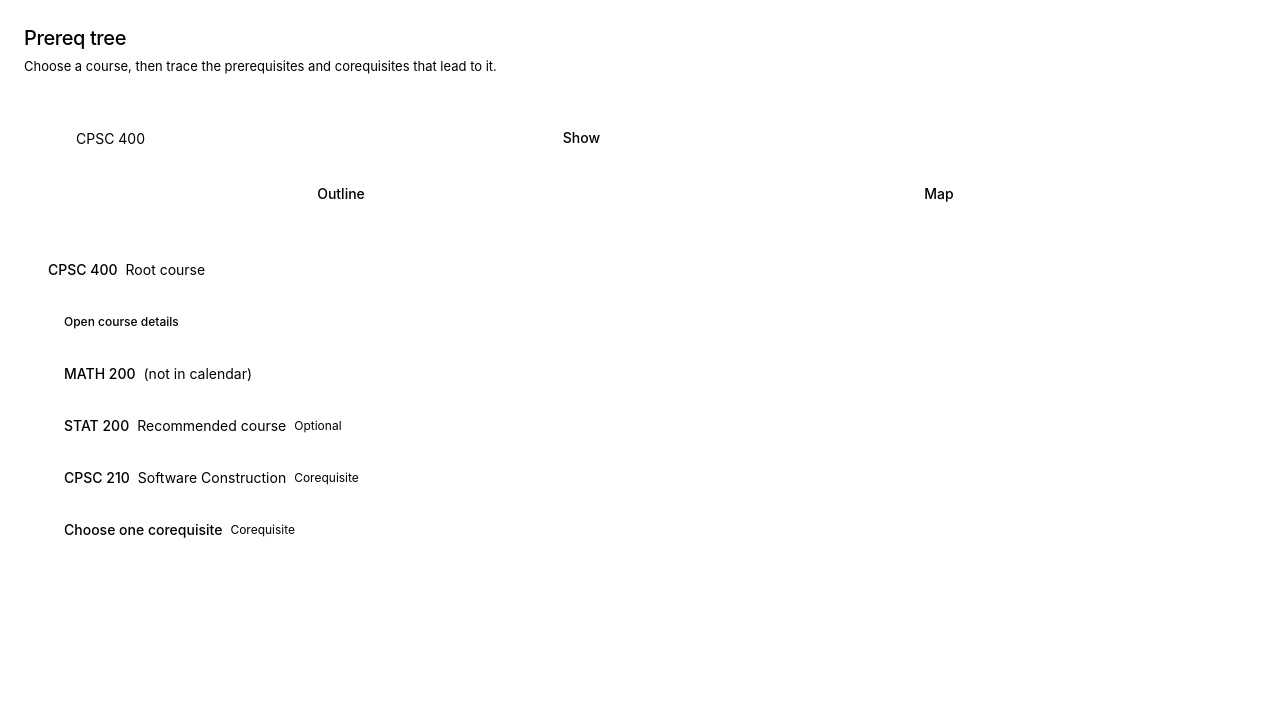
PrereqTreePane › preserves corequisite siblings, their prerequisites, and optional state (false)
expect the text "Corequisite" next to "Software Construction" is shown: met, box [294,470,359,485]
expect the text "Corequisite" next to "Choose one corequisite" is shown: met, box [230,522,295,537]
Click the heading "Choose one corequisite Corequisite" at (180, 530), box [64,521,295,538]
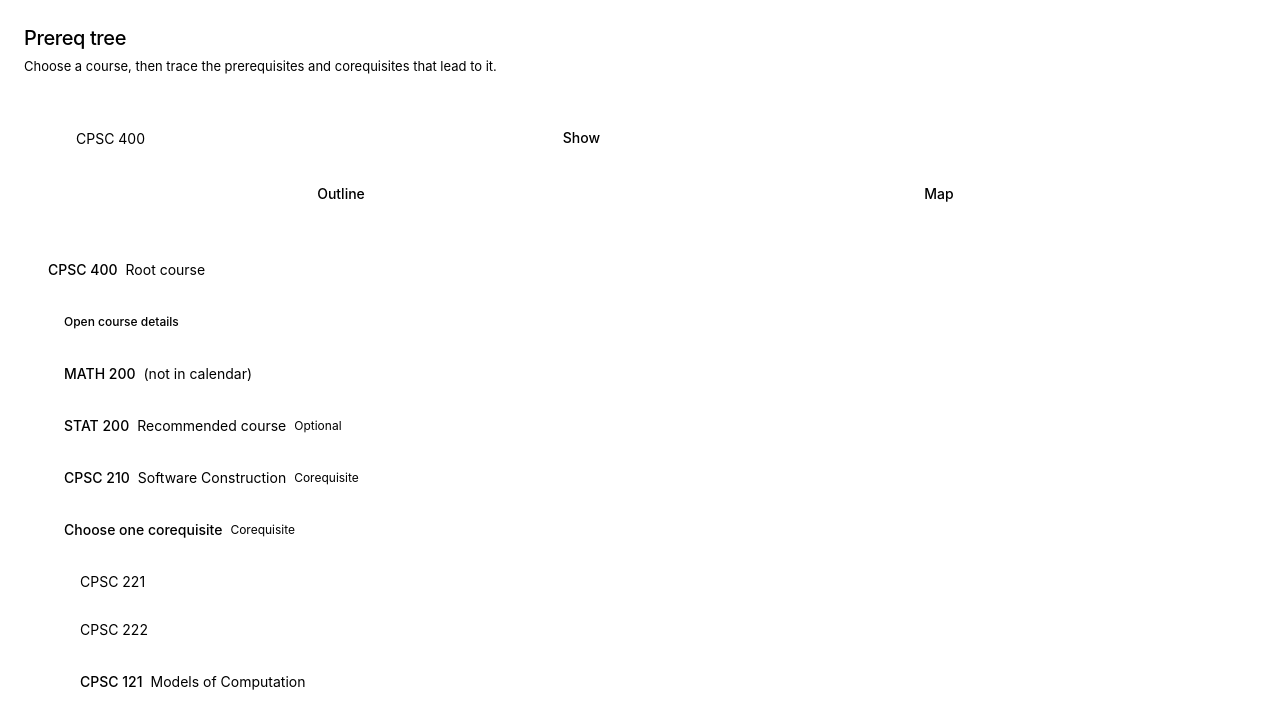
Click the button "CPSC 222" at (114, 630), box [68,608,1228,652]
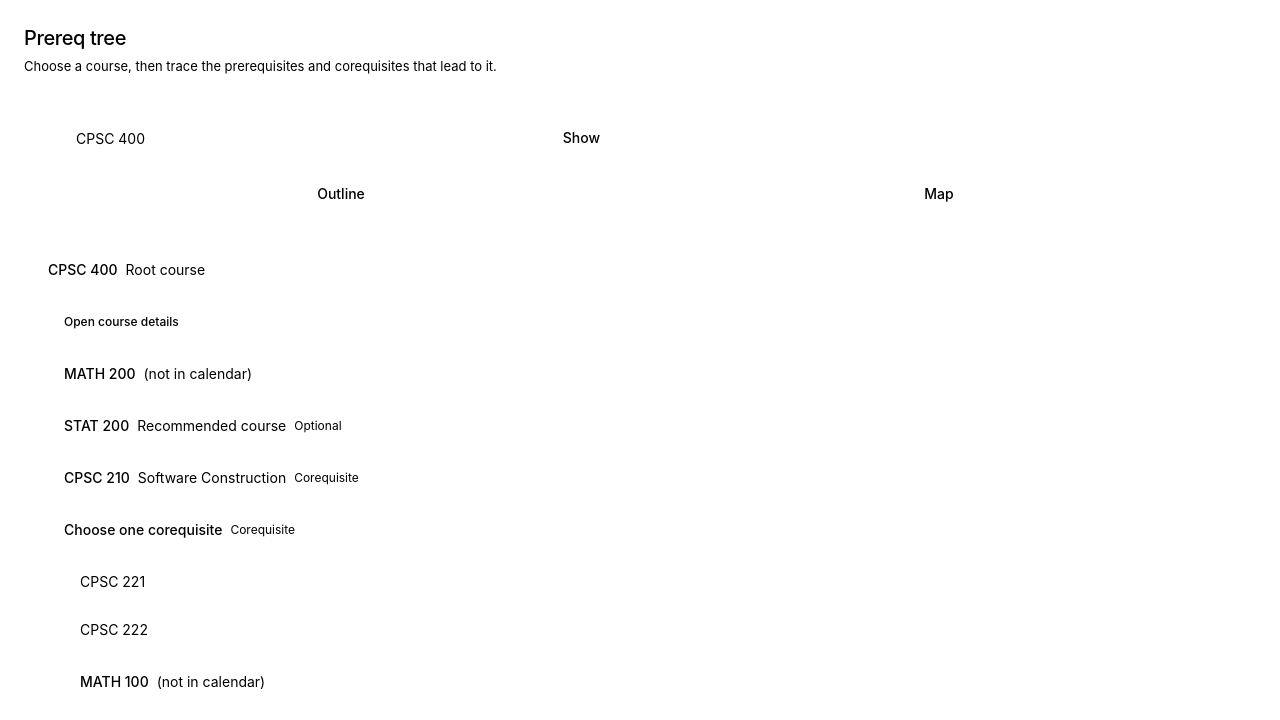
expect the text "Optional" is shown: met, box [294,418,342,434]
expect the heading "CPSC 121" is gone: met
Click the heading "STAT 200 Recommended course Optional" at (203, 426), box [64,417,342,434]
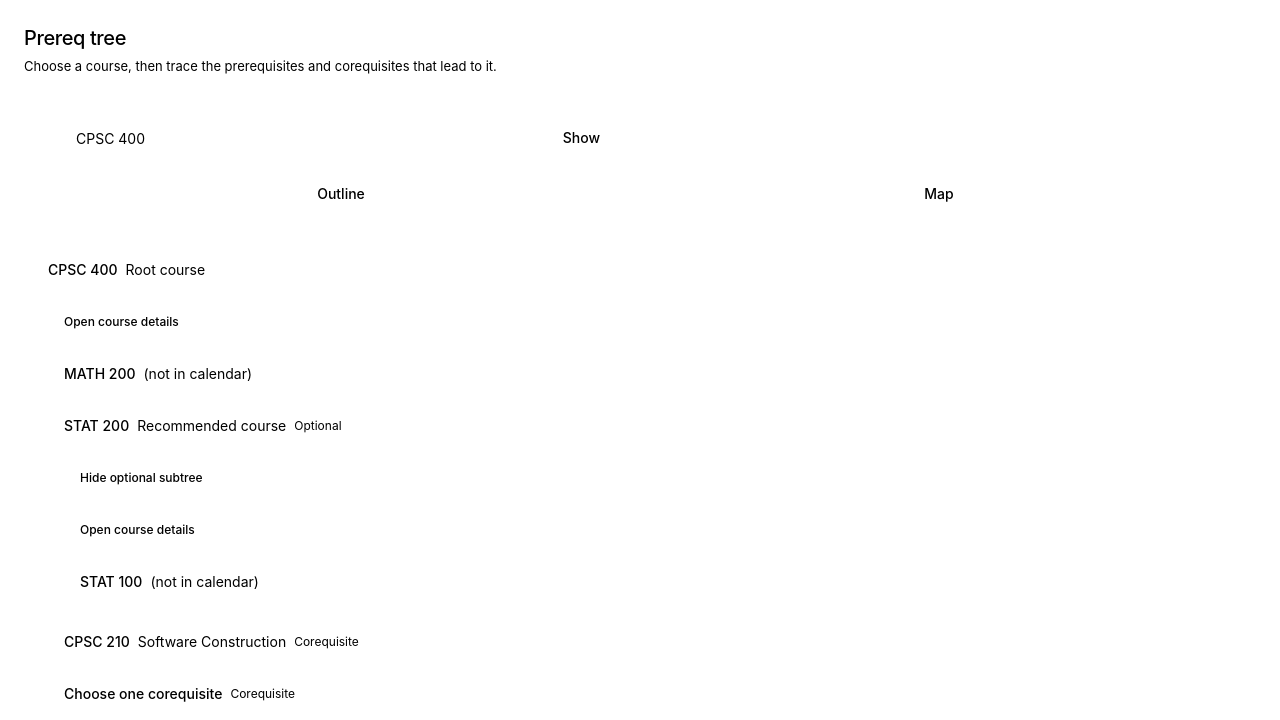
Click the button "Hide optional subtree" at (141, 478), box [68,456,215,500]
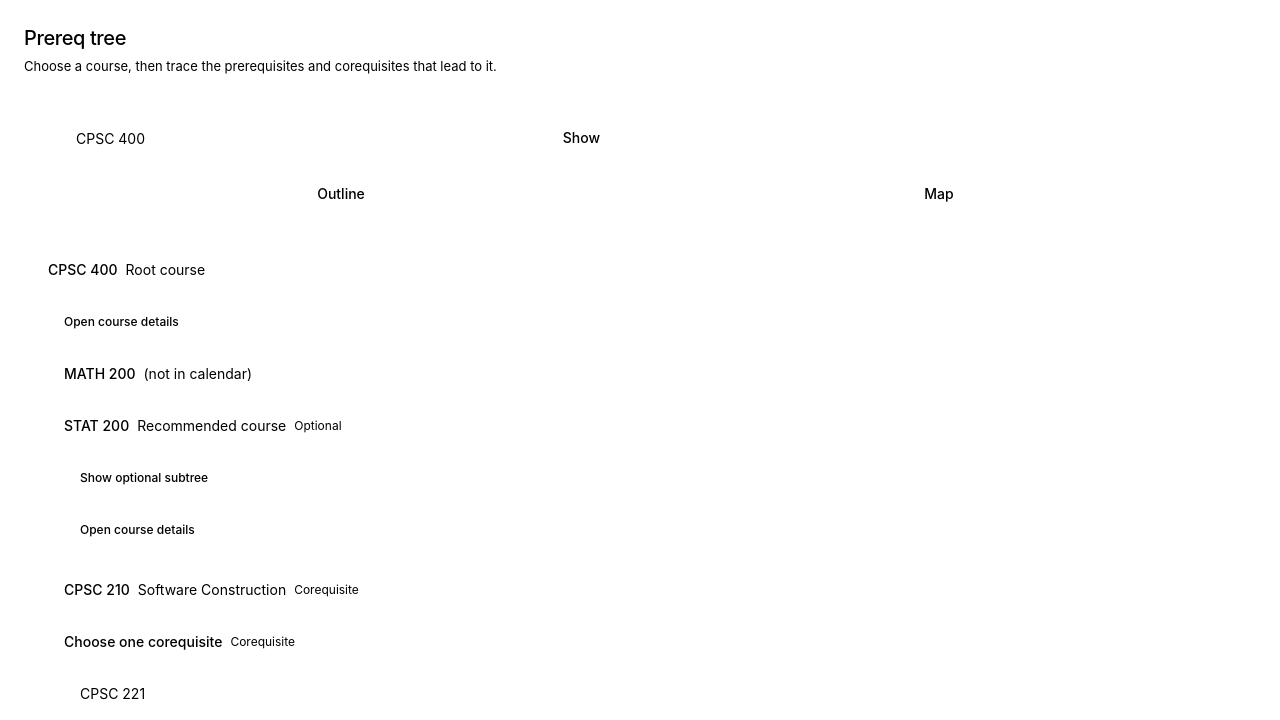
expect the button named "Hide optional subtree" reads "Show optional subtree": met, box [68,456,220,500]
